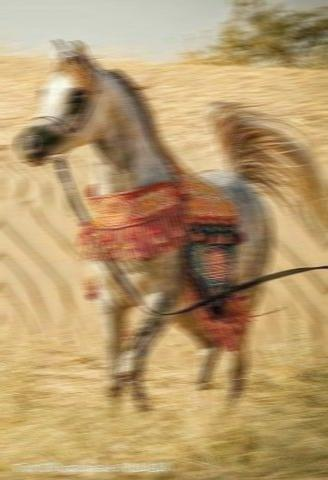horse: (13, 37, 328, 419)
